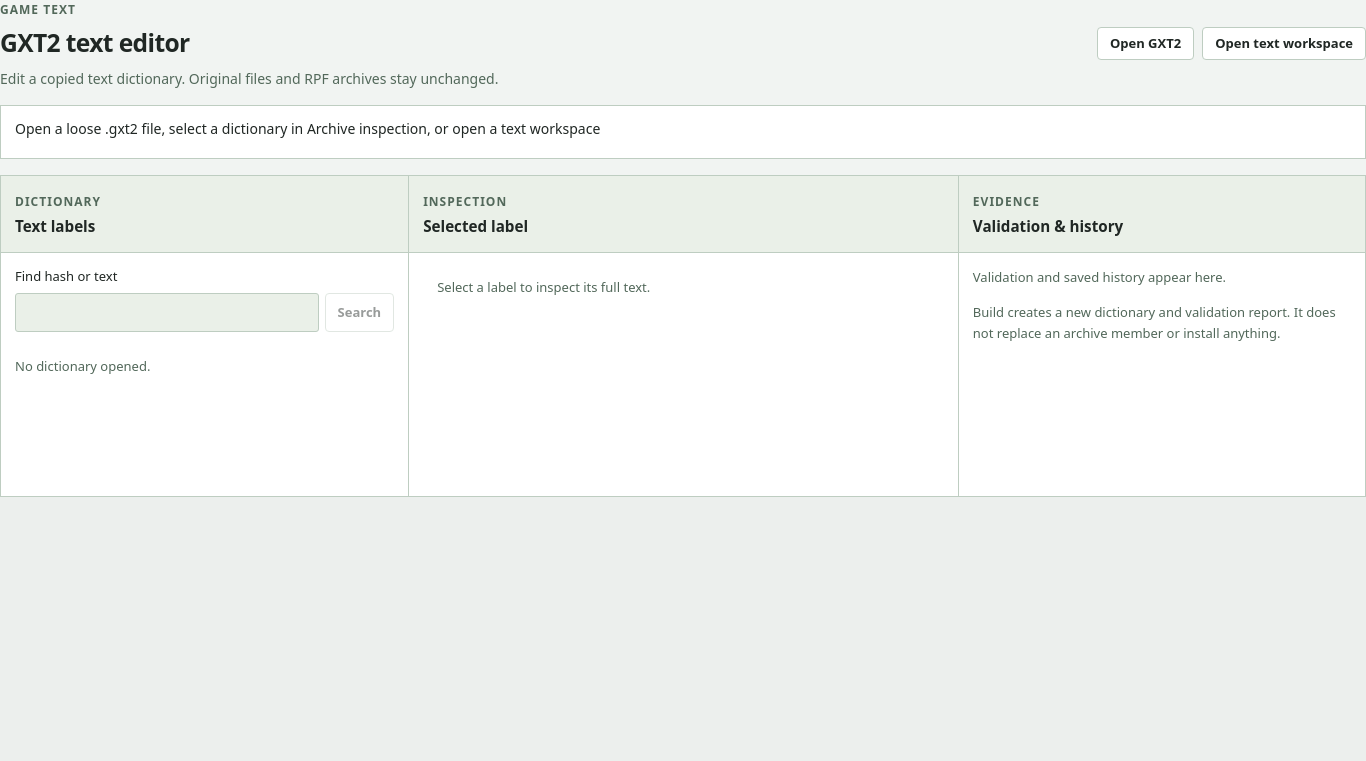
Scenario: inspects a loose source read-only and requires reviewed confirmation to create a copy
Click the button "Open GXT2": (1146, 43) x1=1097 y1=27 x2=1194 y2=60
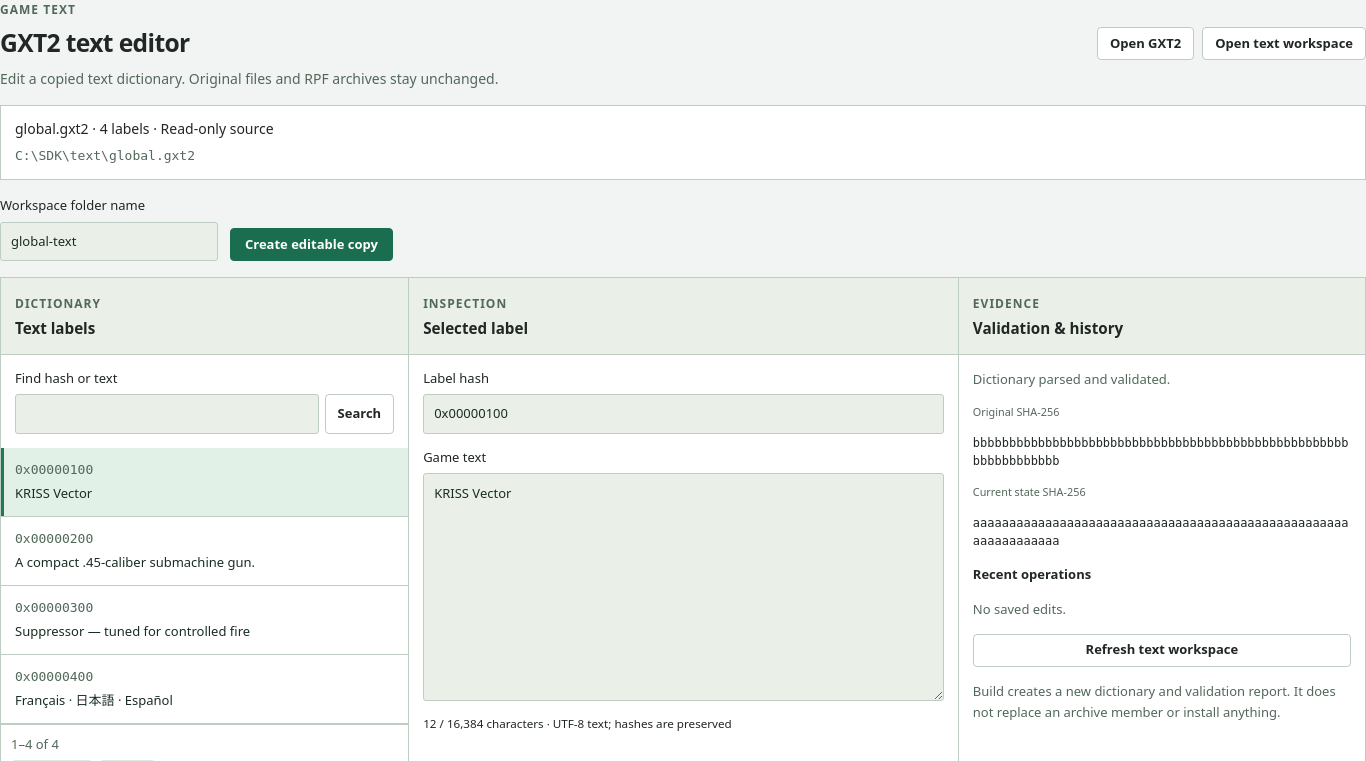
Click the button "Create editable copy": (311, 245) x1=230 y1=228 x2=393 y2=261
(page scrolled)
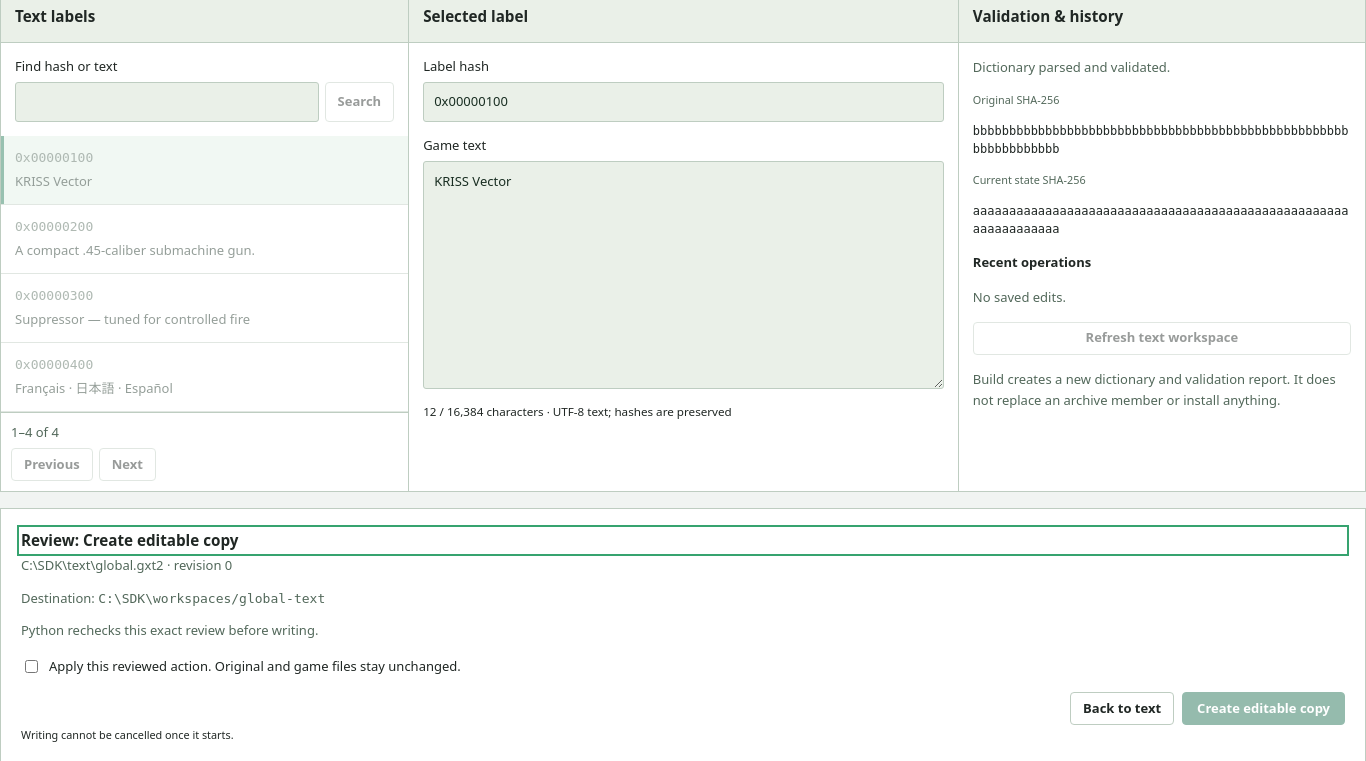
Now the heading "Review: Create editable copy" is shown, box x1=21 y1=530 x2=238 y2=550
Now the button "Create editable copy" is disabled, box x1=1182 y1=692 x2=1345 y2=725
Click the checkbox: (32, 666) x1=25 y1=660 x2=38 y2=673
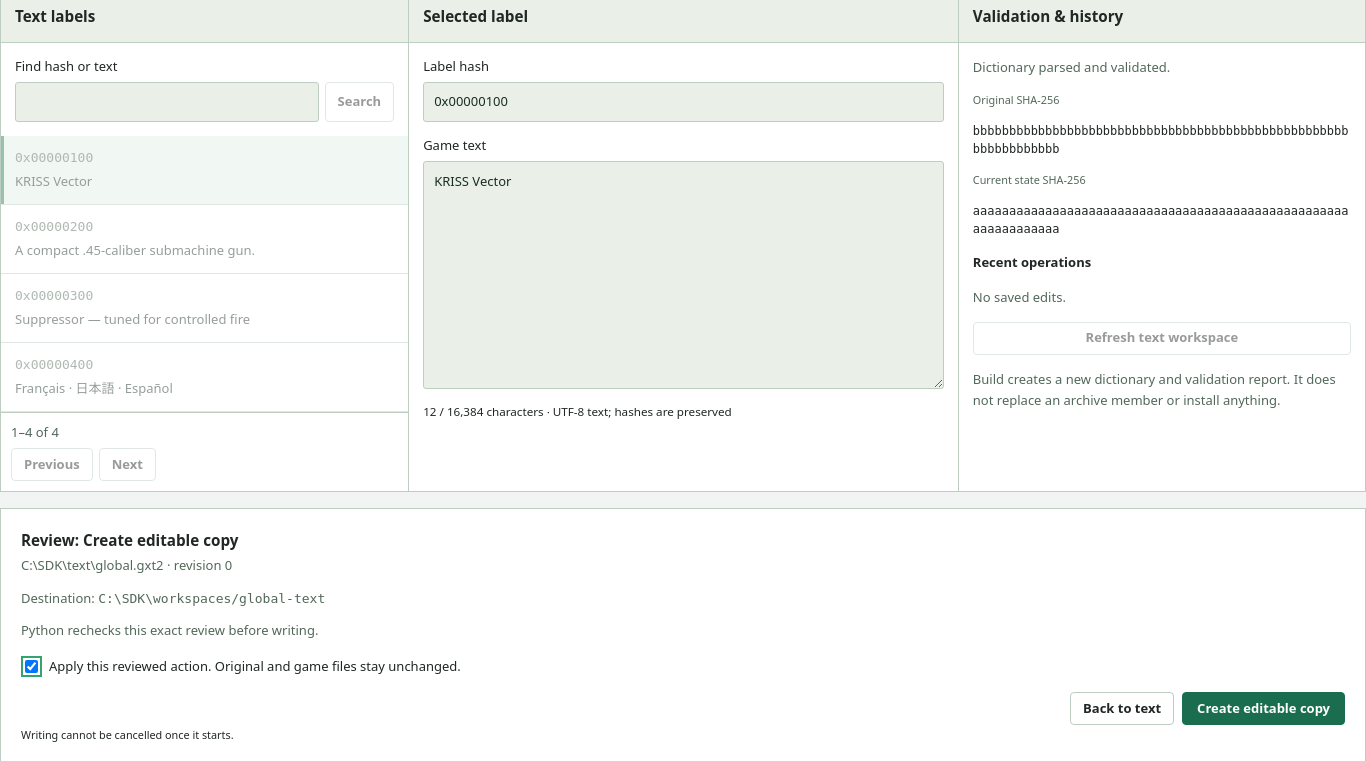
Click the button "Create editable copy": (1264, 709) x1=1182 y1=692 x2=1345 y2=725
(page scrolled)
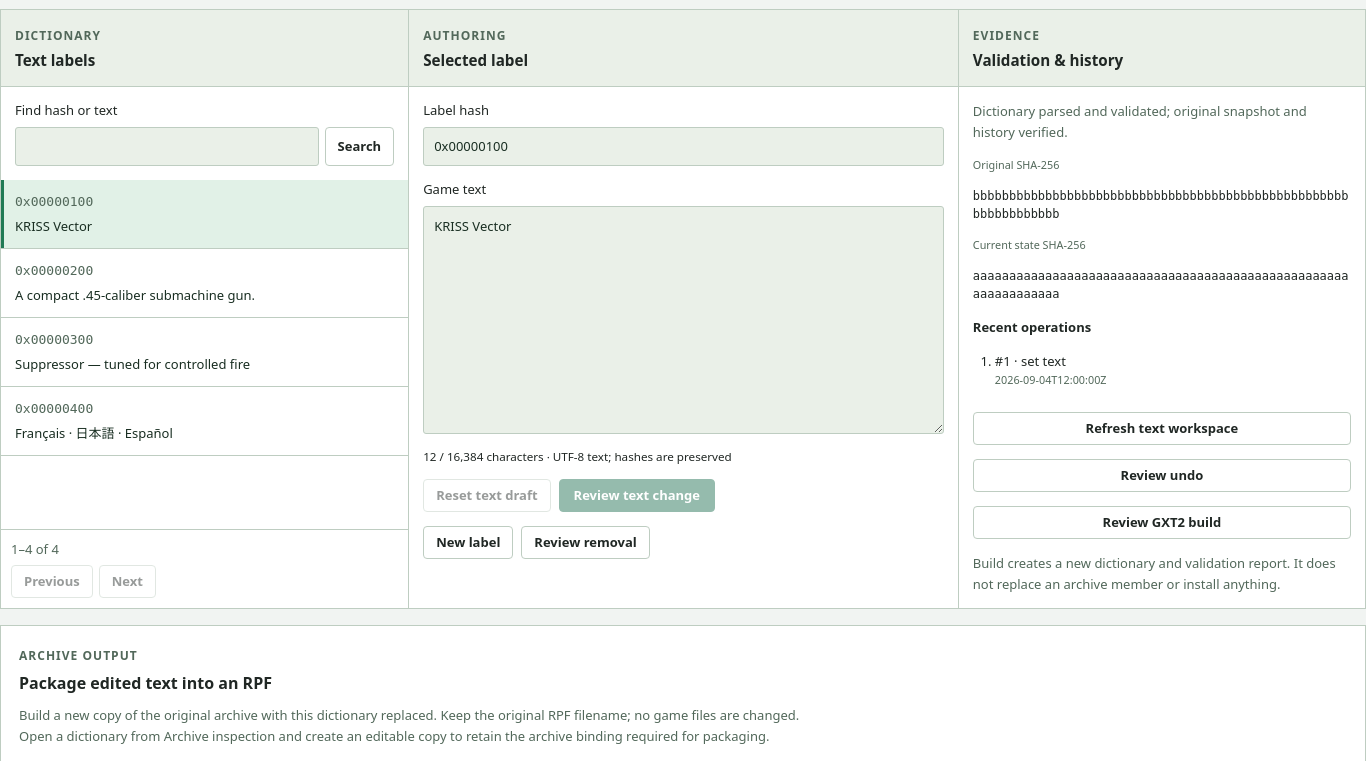
Now the text box labelled "Game text" does not have attribute readonly, box x1=423 y1=206 x2=944 y2=434
